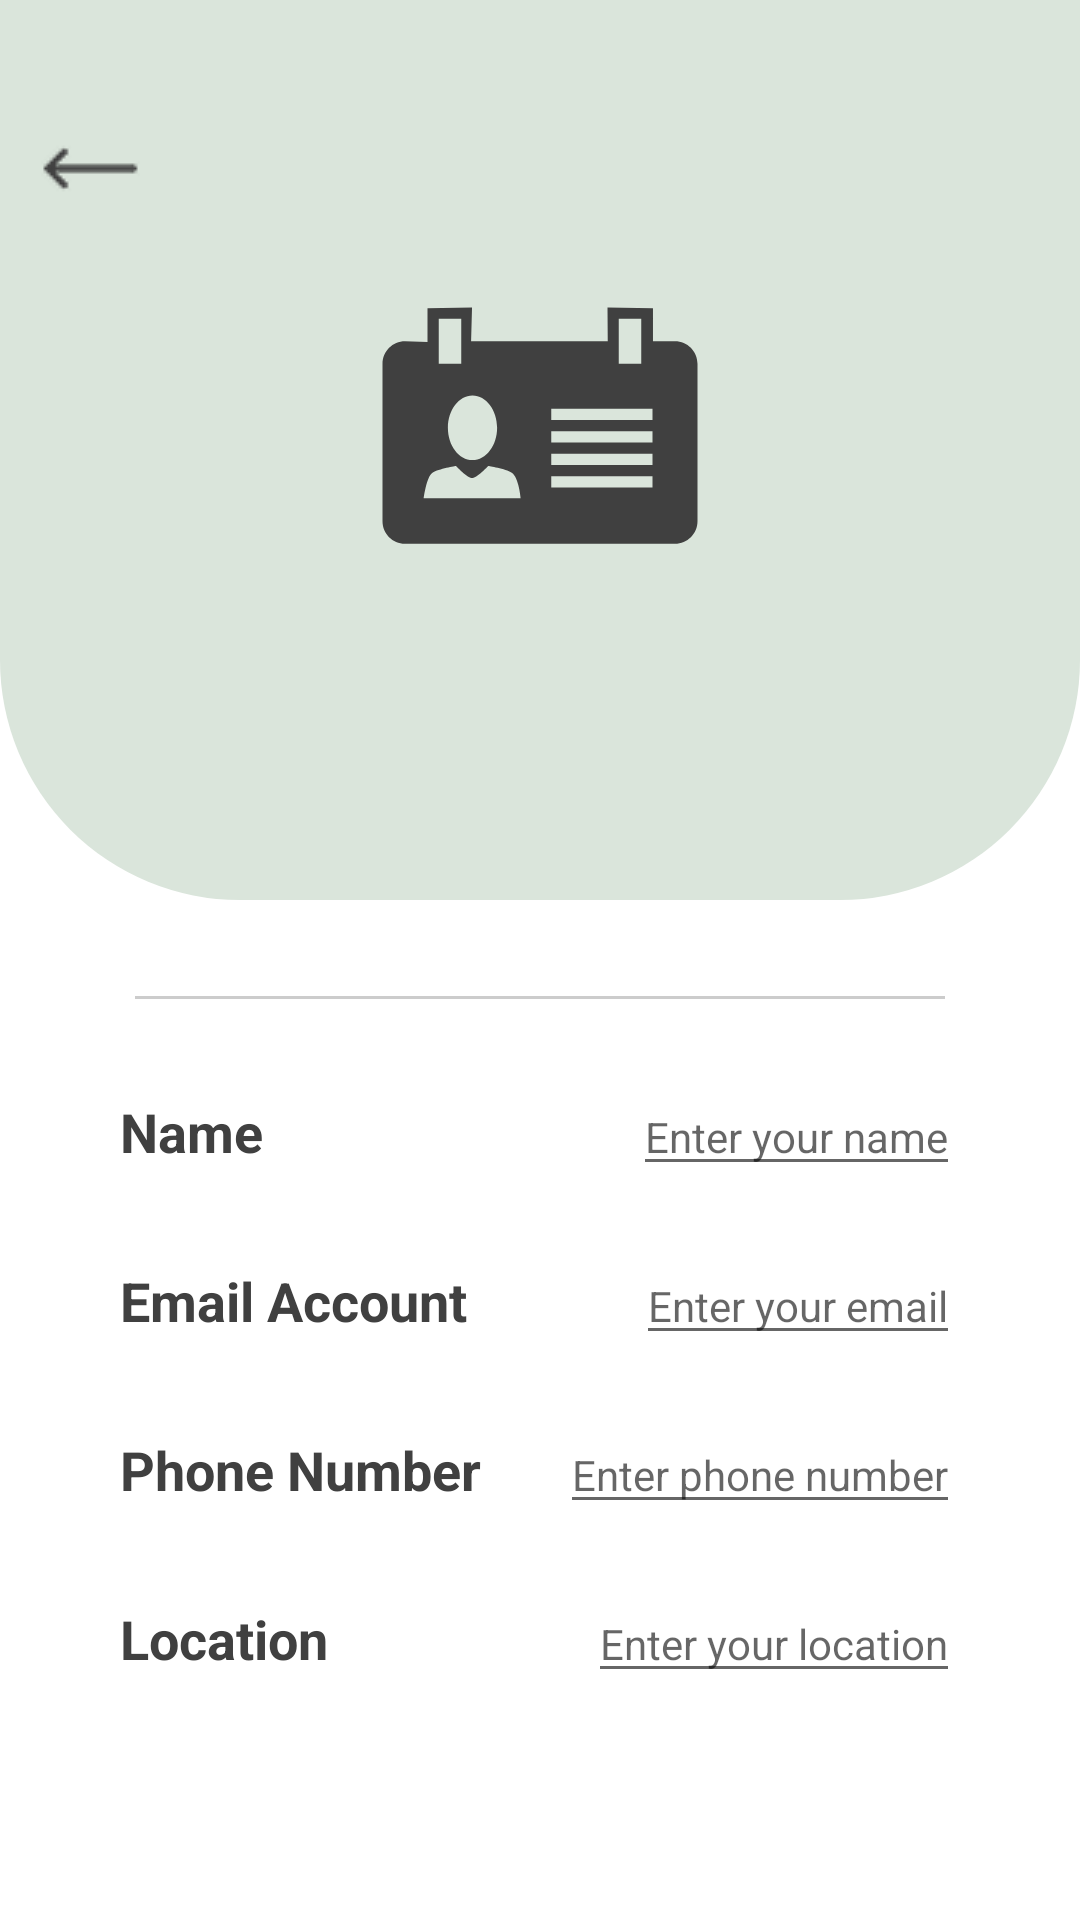

Icon click points for this 1080 × 1920 phone screenshot, format point (x, y):
back arrow: point (90, 168)
Profile picture: point (540, 425)
